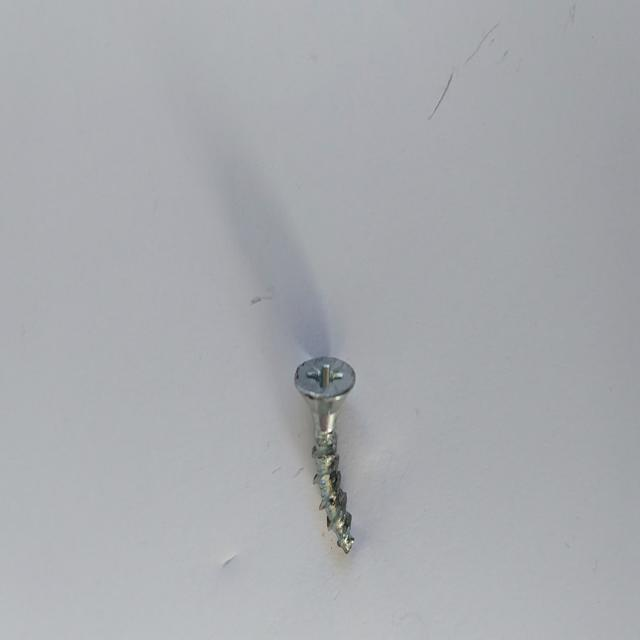Screw: (295, 357, 355, 553)
